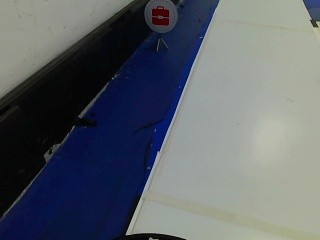company: (143, 0, 175, 31)
